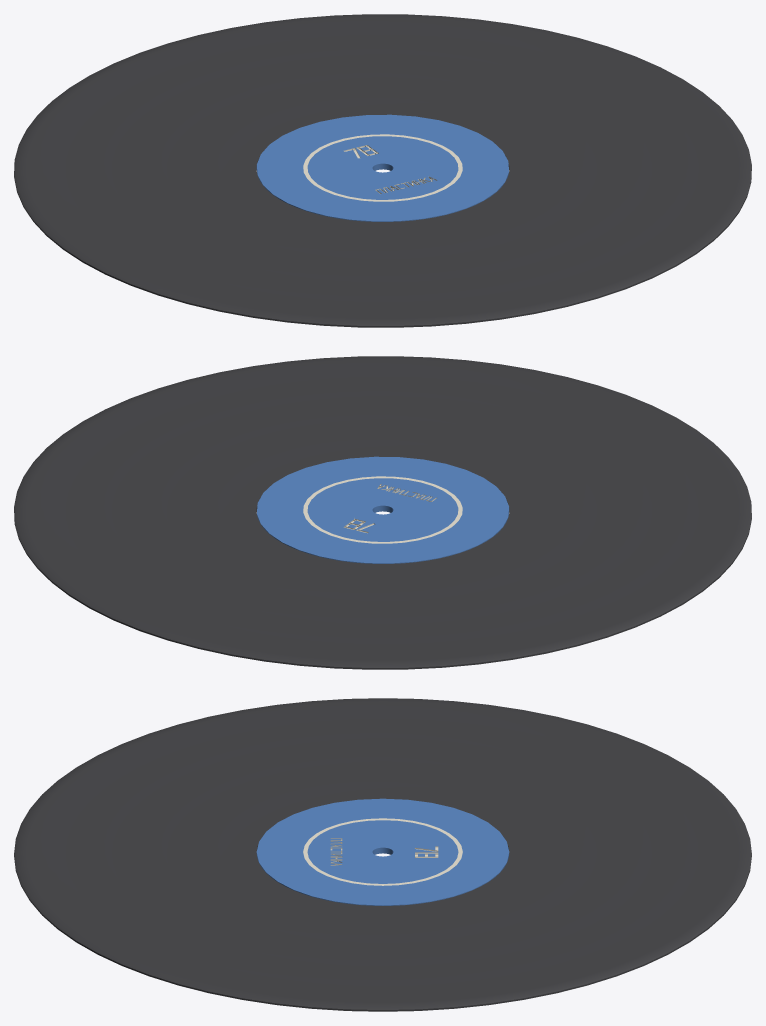
File: record_entertainer.glb
3 renders of one model, top to bottom at view 1: azimuth 30°, elevation 25°; view 2: azimuth 150°, elevation 25°; view 3: azimuth 270°, elevation 25°, orthographic.
Parts seen in each view (by area): view 1: disc, label; view 2: disc, label; view 3: disc, label.
Part boxes in pixels (x1,y1,x2,y2): disc: (14,14,751,327); label: (256,114,509,221); disc: (14,356,751,669); label: (256,456,509,563); disc: (14,698,751,1011); label: (256,798,509,905).
Size of the model in its own units: 0.254 by 0.0028 by 0.254.
